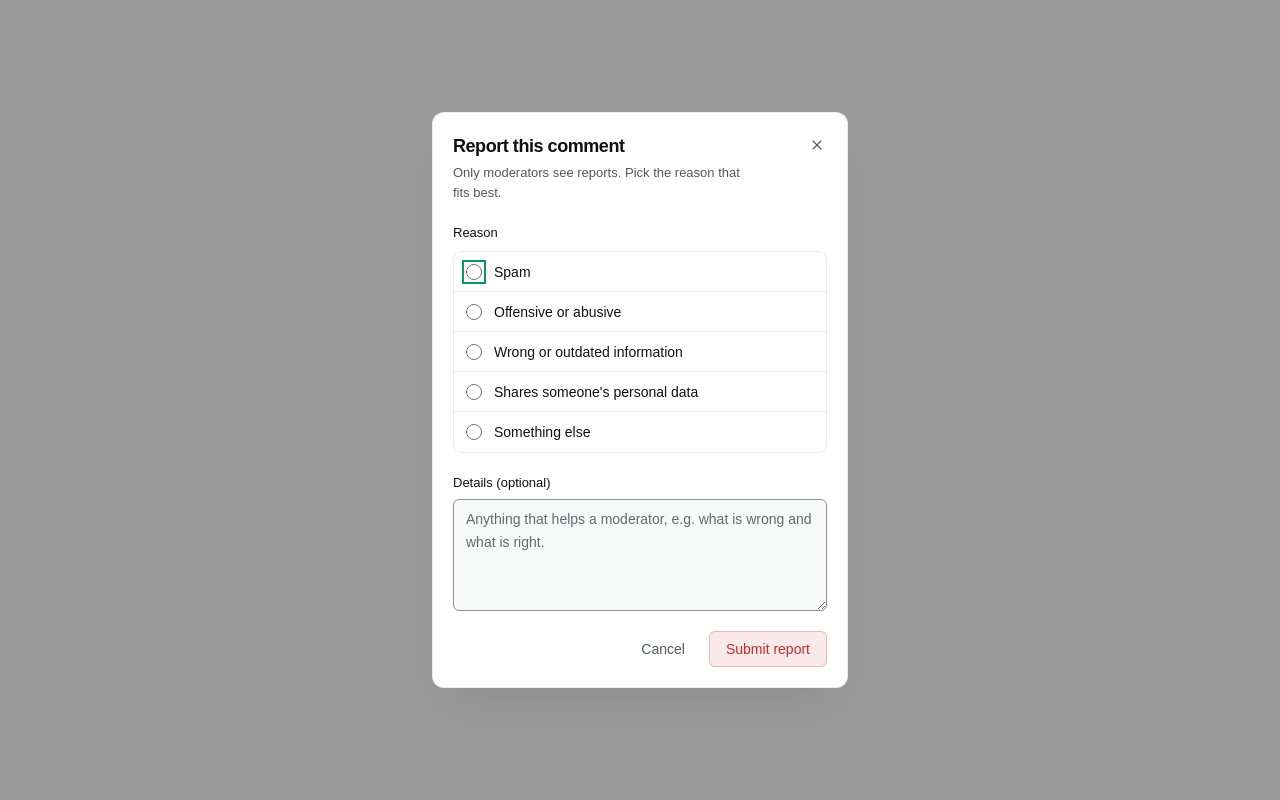
ReportDialog › shows an error result
The width and height of the screenshot is (1280, 800).
Click the radio button labelled "Spam". click: (474, 272)
box: [466, 264, 482, 280]
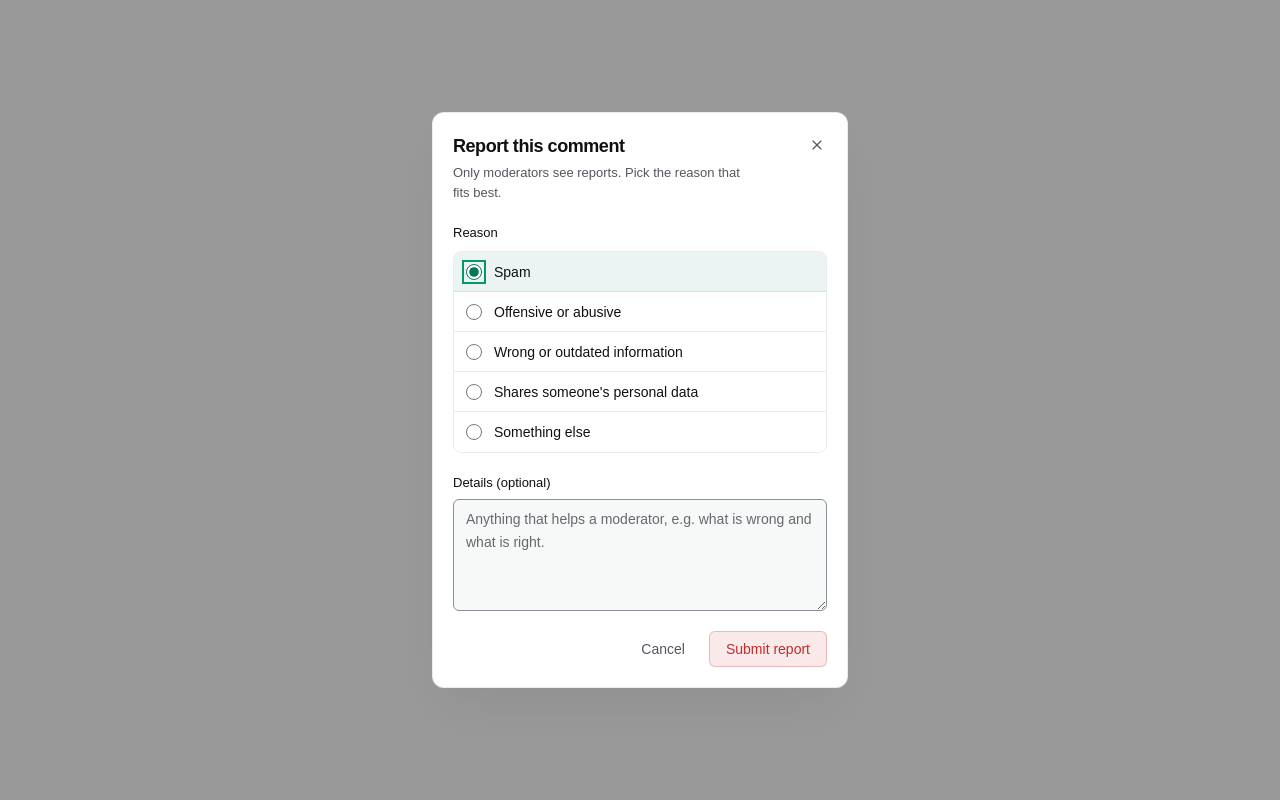
Click the button "Submit report". click: (768, 649)
box: [709, 631, 827, 667]
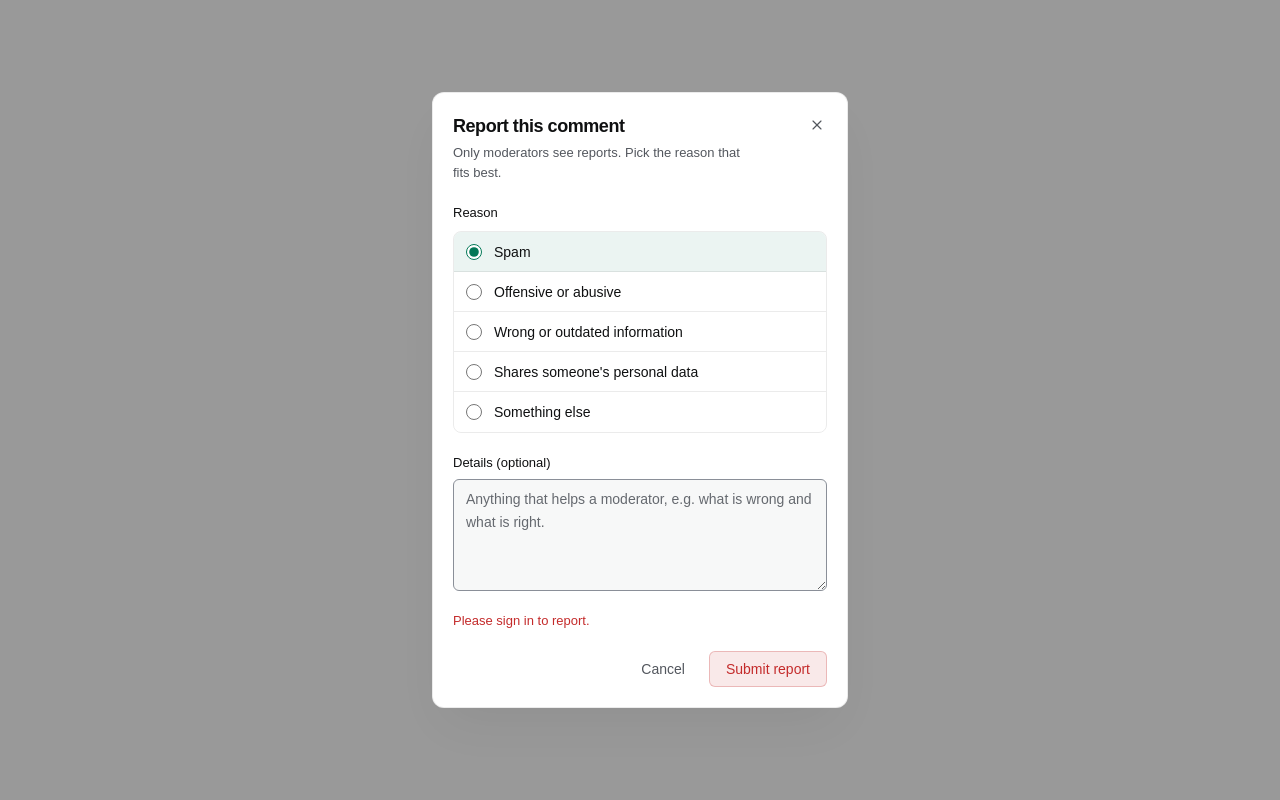
Check: the message reads "Please sign in to report.", box [453, 613, 590, 628]
